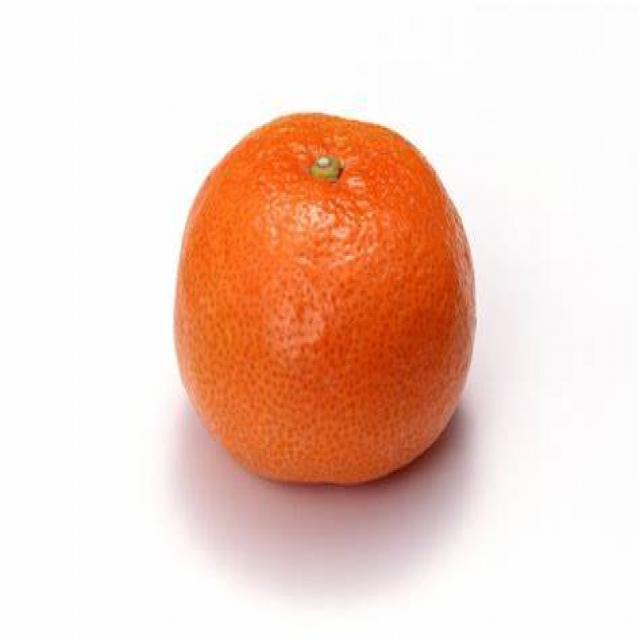Orange: (173, 111, 484, 486)
